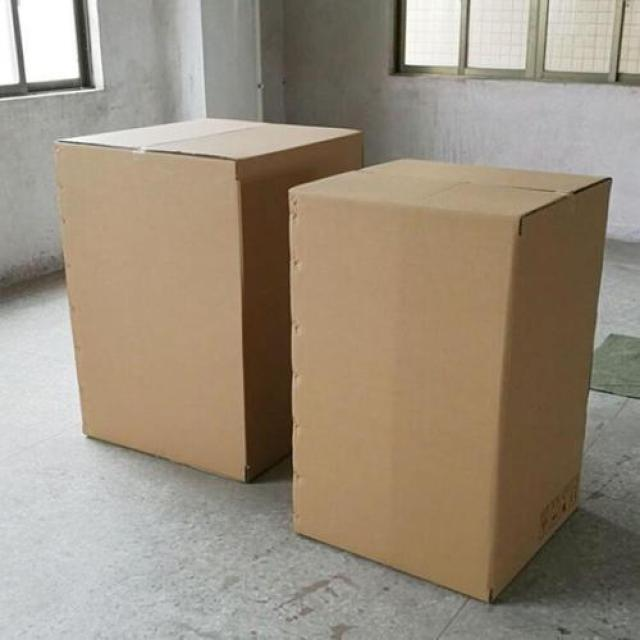cardboard: (291, 149, 603, 595), (55, 109, 352, 481)
